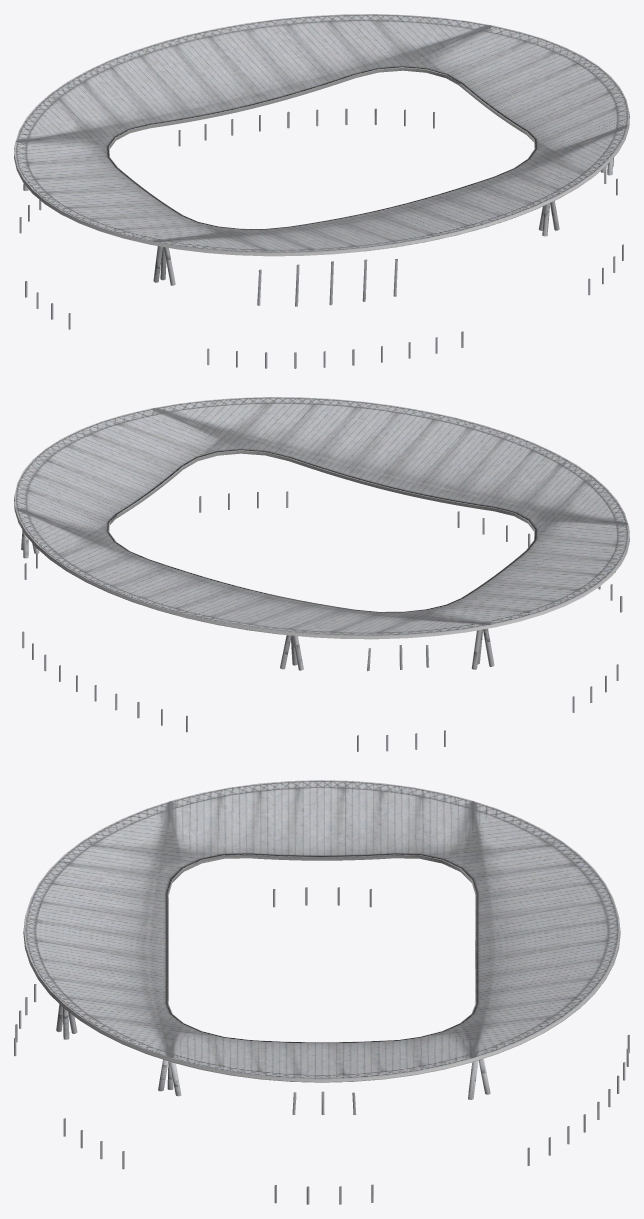
The model's file is stade3.obj.
3 views of the same model, one above another, from view 1: azimuth 30°, elevation 25°; view 2: azimuth 150°, elevation 25°; view 3: azimuth 270°, elevation 25° (orthographic). The views are drawn at different scales.
Visible parts, largest first — view 1: nmodel_10_27_roof, nmodel_10_27_pipes4; view 2: nmodel_10_27_roof, nmodel_10_27_pipes4; view 3: nmodel_10_27_roof, nmodel_10_27_pipes4.
Boxes of the visible parts, box(x1,y1,x2,y2) form: nmodel_10_27_roof: box(14, 14, 629, 256); nmodel_10_27_pipes4: box(19, 108, 623, 368); nmodel_10_27_roof: box(14, 397, 629, 639); nmodel_10_27_pipes4: box(21, 491, 622, 751); nmodel_10_27_roof: box(23, 780, 620, 1082); nmodel_10_27_pipes4: box(14, 887, 629, 1204).
Bounding box in the file's own units: 234 × 45.54 × 203.
